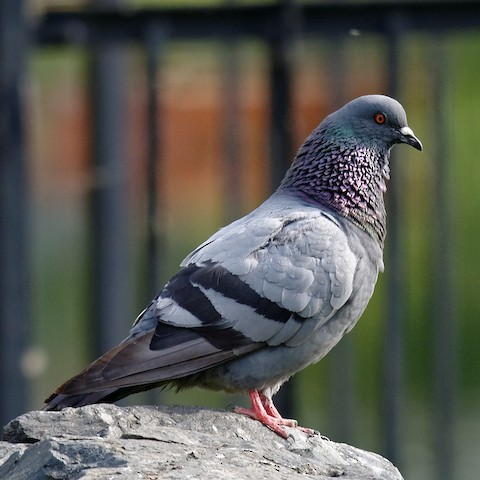pigeon: (32, 91, 431, 442)
